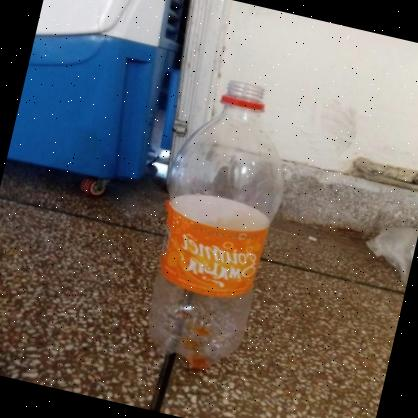bottle: (118, 63, 314, 390)
label: (148, 194, 276, 310)
